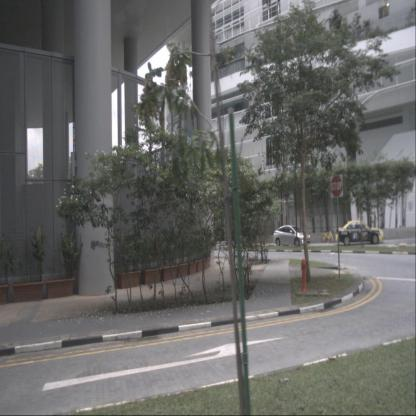vehicle-bicycle: (321, 227, 335, 243)
vehicle-car: (336, 219, 384, 247), (273, 224, 311, 247)
